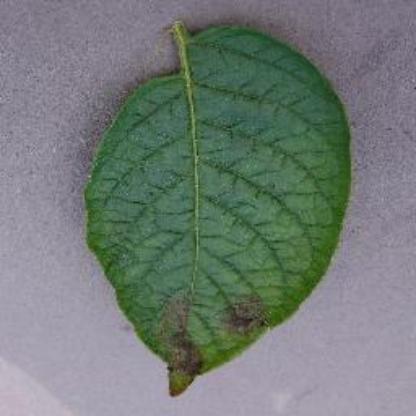Late-Blight: (84, 13, 380, 408)
